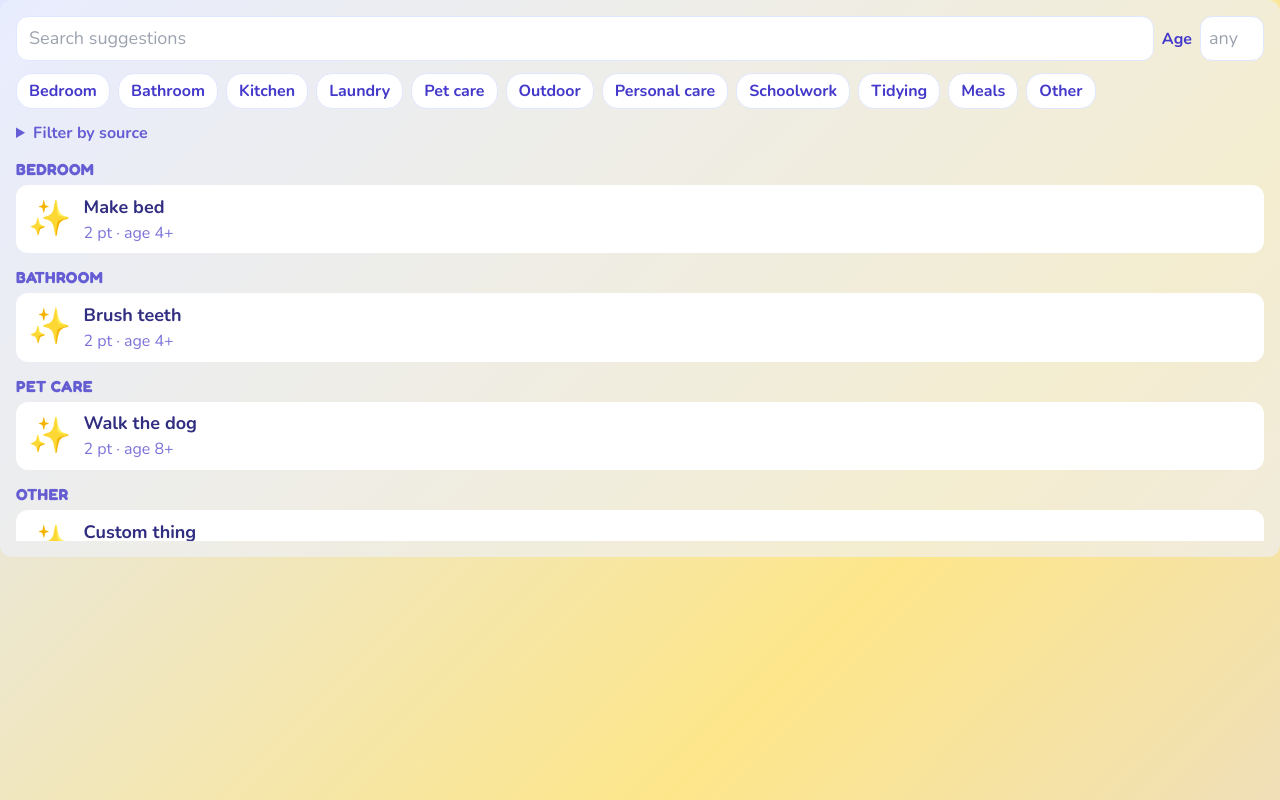
Test case: BrowseSuggestionsPanel › filters by age (excludes higher age_min)
This screenshot has width=1280, height=800.
Type "4" into the number field named "Filter by age" at (1232, 38), box [1200,16,1264,61]
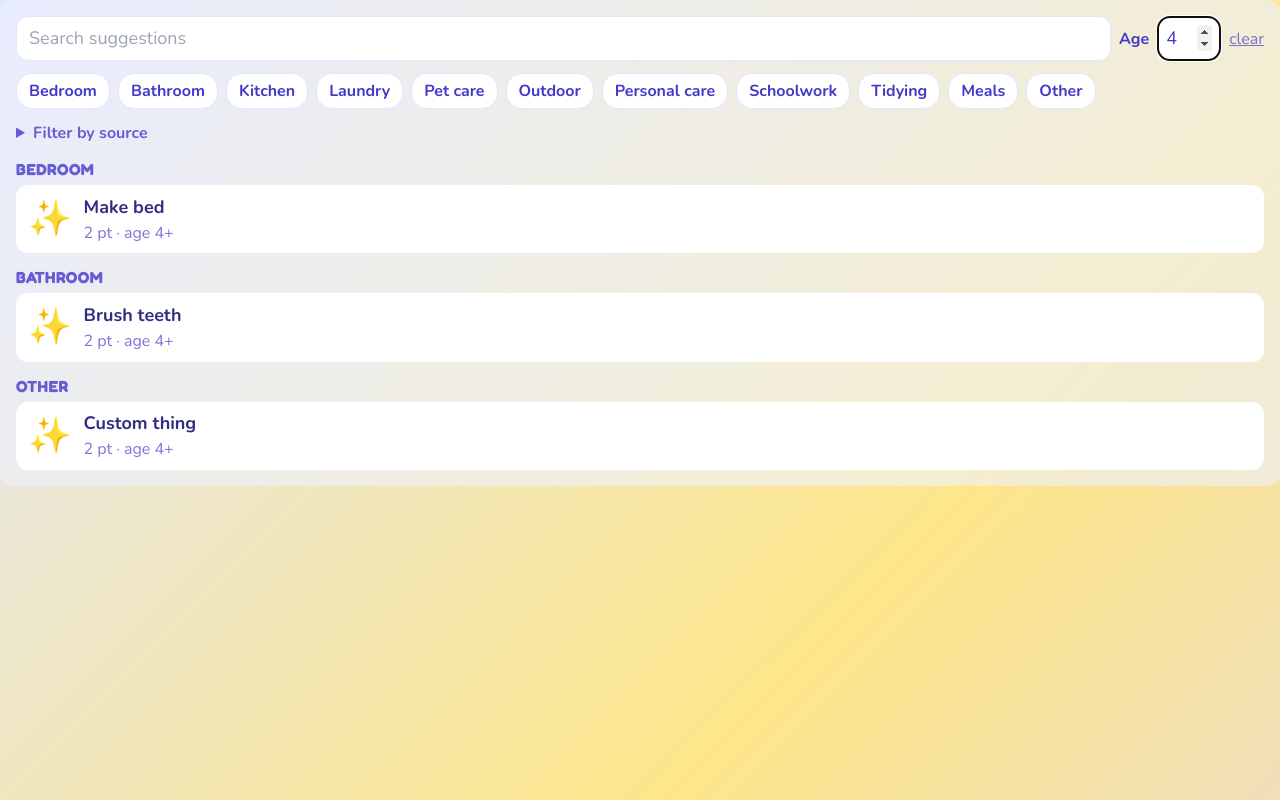
Expected: the text "Make bed" is shown, [84,195,164,219]
Now the button "Walk the dog" is gone
